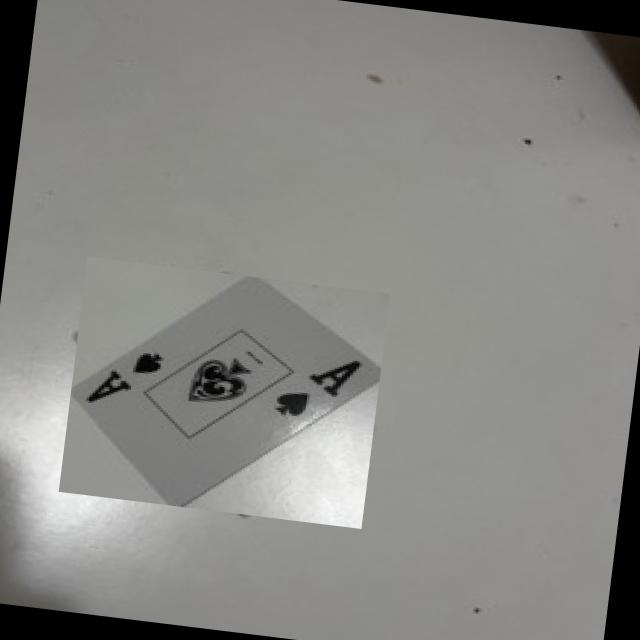Ace of spades: (71, 276, 380, 507)
